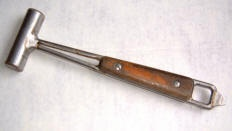hammer: (6, 7, 226, 113)
